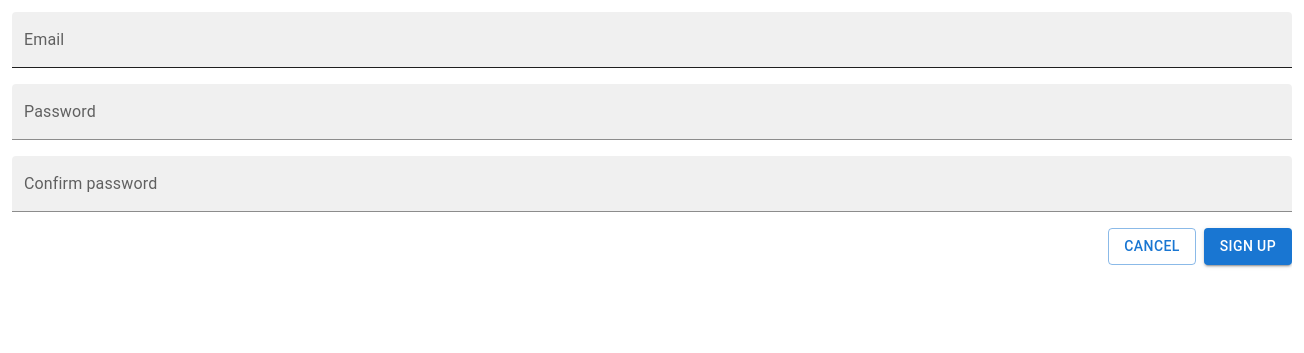
Test: RegisterForm › should show error if passwords do not match
The image size is (1304, 353).
Type "Password123" into the password field with test id "password" at x=652, y=112, box [12,84,1292,140]
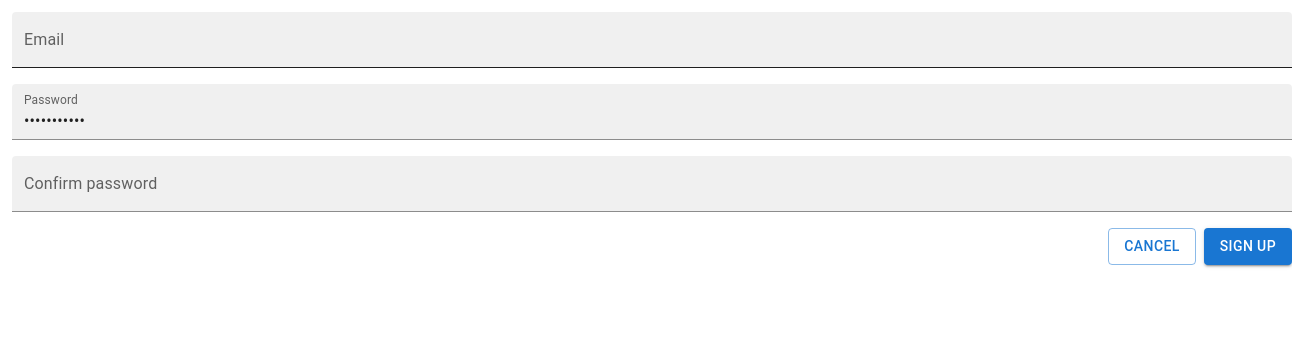
Type "Password456" into the password field with test id "passwordConfirm" at x=652, y=184, box [12,156,1292,212]
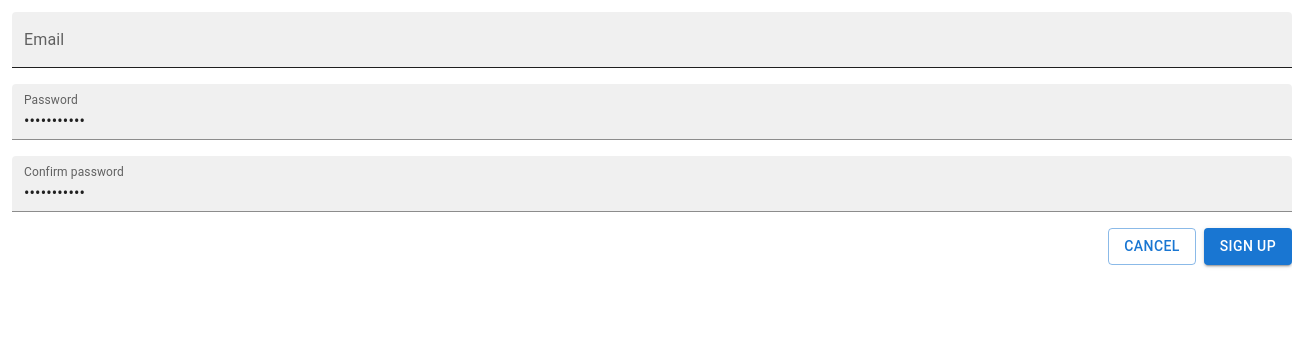
Click the button with test id "submit-button" at x=1248, y=246, box [1204,228,1292,264]
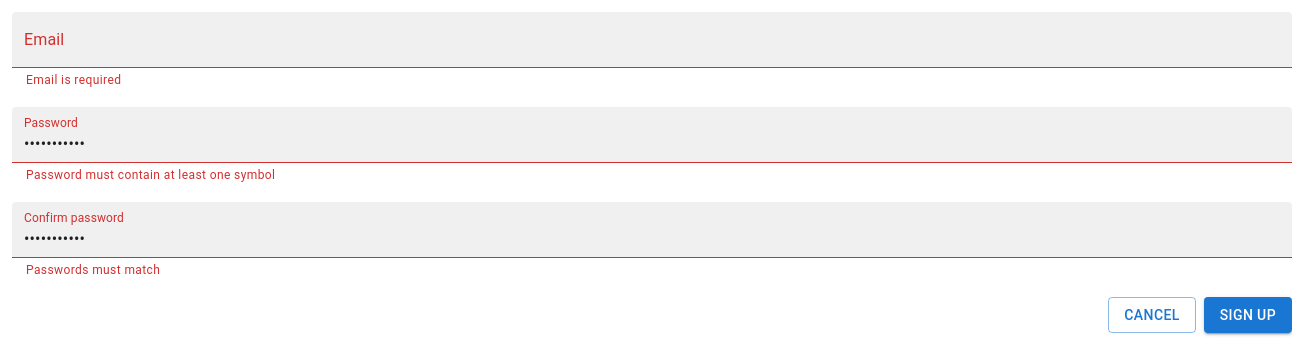
Now the text "Passwords must match" is shown, box [26,263,160,277]
